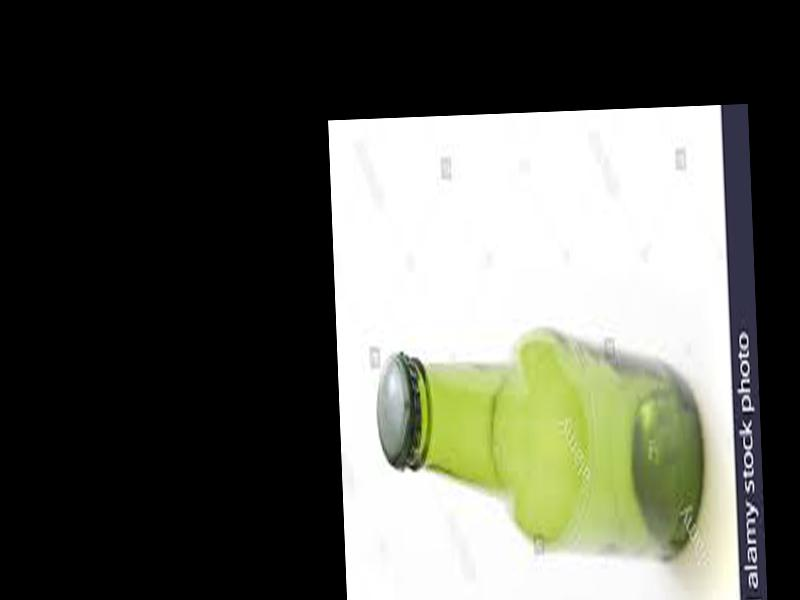Beer: (374, 339, 707, 570)
